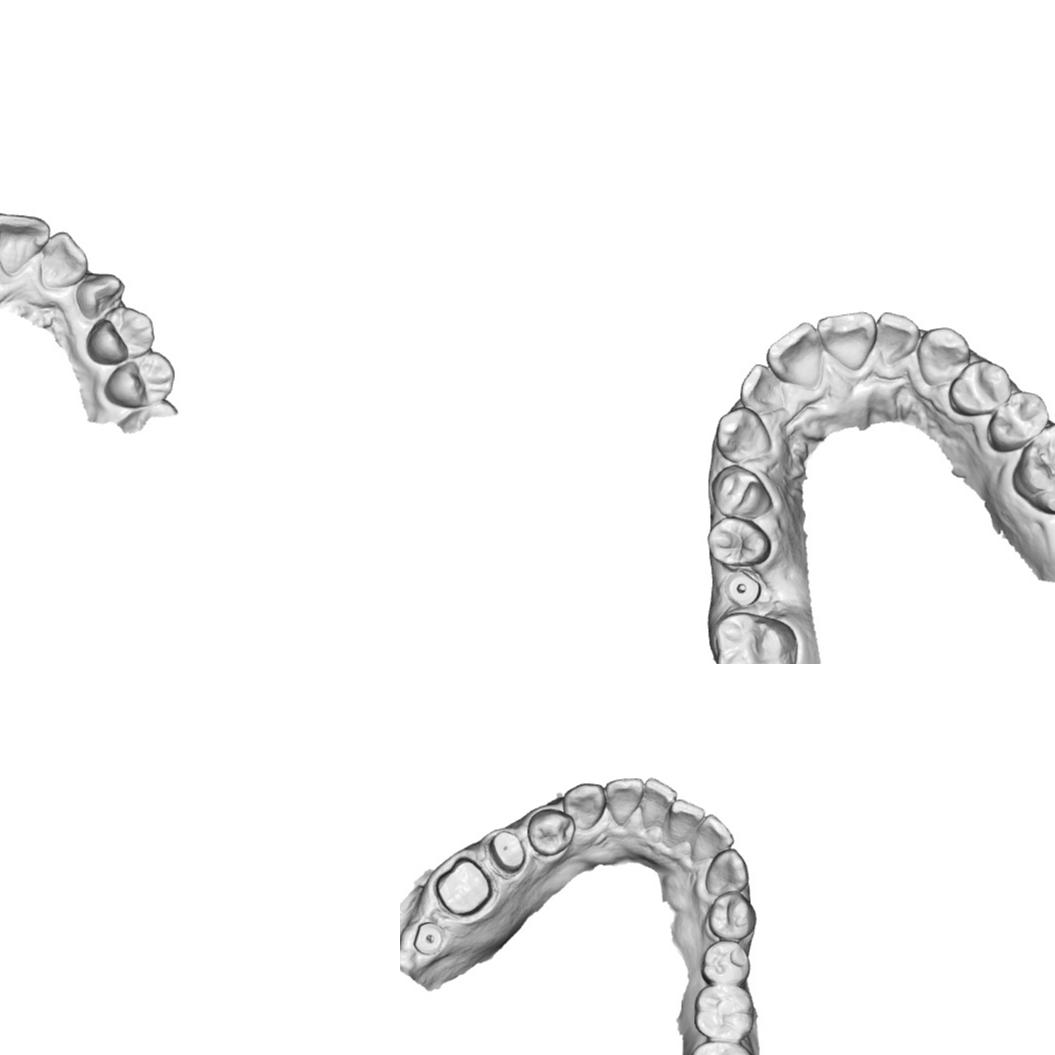canine: (914, 324, 971, 389), (713, 406, 773, 464), (74, 271, 126, 322), (562, 780, 606, 831), (704, 848, 750, 896)
crown: (432, 854, 498, 921), (485, 828, 528, 877)
implant: (720, 569, 762, 606), (412, 919, 446, 956)
incisor: (762, 320, 825, 386), (814, 307, 875, 373), (0, 211, 51, 276), (39, 230, 89, 290), (871, 311, 919, 364), (737, 362, 787, 411), (690, 813, 734, 861), (604, 776, 645, 827), (641, 776, 678, 826), (668, 798, 706, 843)
molar: (709, 612, 797, 664), (1012, 422, 1055, 515), (691, 984, 754, 1040), (685, 1040, 760, 1055)
premolar: (984, 387, 1053, 450), (85, 305, 156, 365), (104, 350, 176, 408), (707, 464, 774, 522), (947, 359, 1014, 416), (709, 517, 772, 567), (706, 889, 757, 941), (526, 808, 576, 858), (700, 940, 751, 985)
